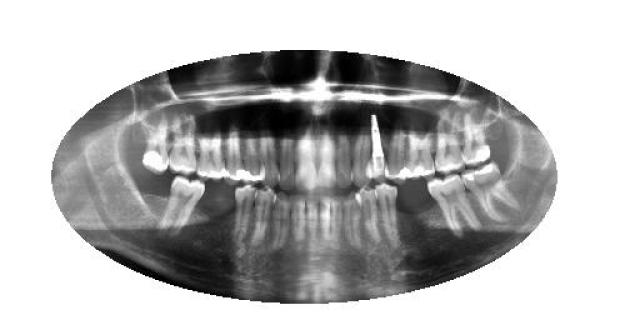Fillings: (462, 165, 514, 223), (142, 113, 170, 175), (245, 128, 264, 184), (225, 129, 243, 181)
Implant: (361, 114, 390, 182)
